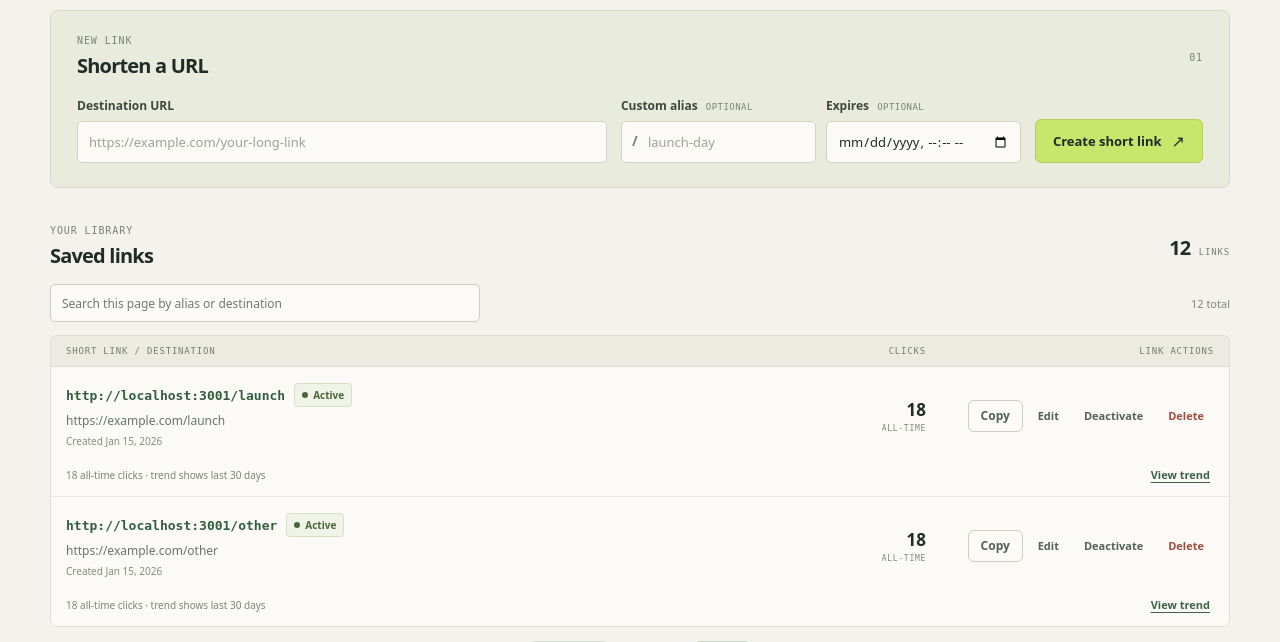
Test: LinkPulse analytics dashboard › paginates server results and searches within the current page
(page scrolled)
Expected: the link "http://localhost:3001/launch" is shown, x1=66 y1=388 x2=285 y2=403
In the search field named "search links on this page": {"x": 265, "y": 304} x1=50 y1=284 x2=480 y2=322, type "launch"
(page scrolled)
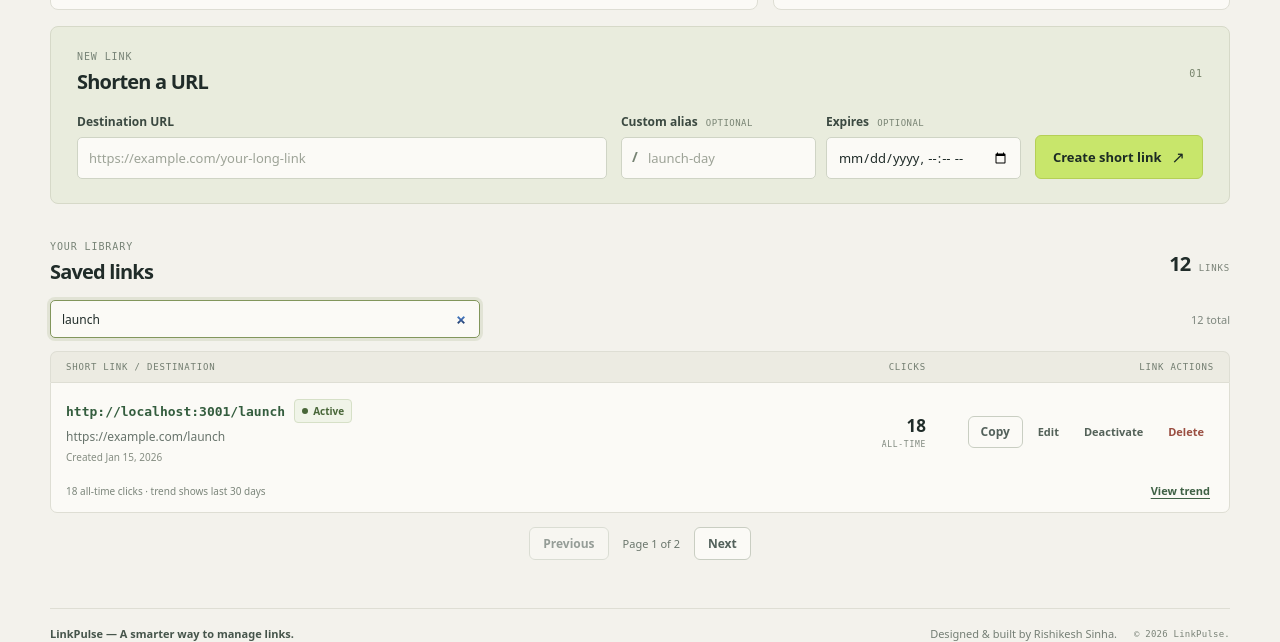
Expected: the link "http://localhost:3001/launch" is shown, x1=66 y1=404 x2=285 y2=419
Now the link "http://localhost:3001/other" is gone
Clear the search field: {"x": 265, "y": 320} x1=50 y1=300 x2=480 y2=338
(page scrolled)
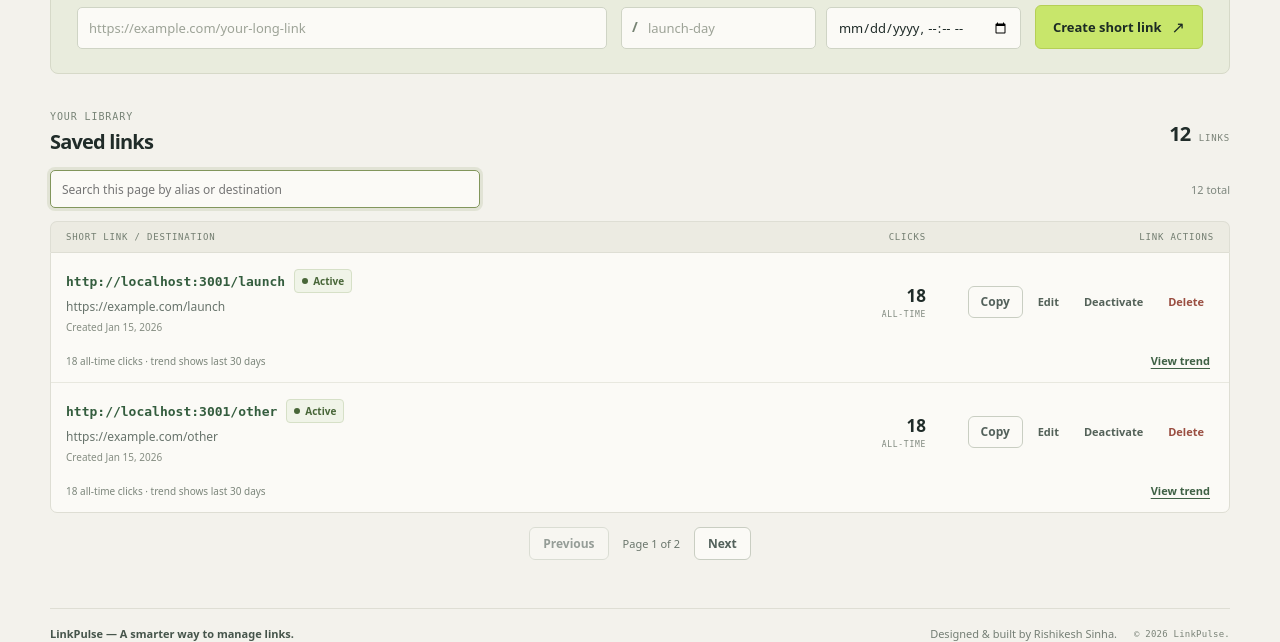
Click the button "Next": {"x": 722, "y": 544} x1=694 y1=528 x2=751 y2=560
(page scrolled)
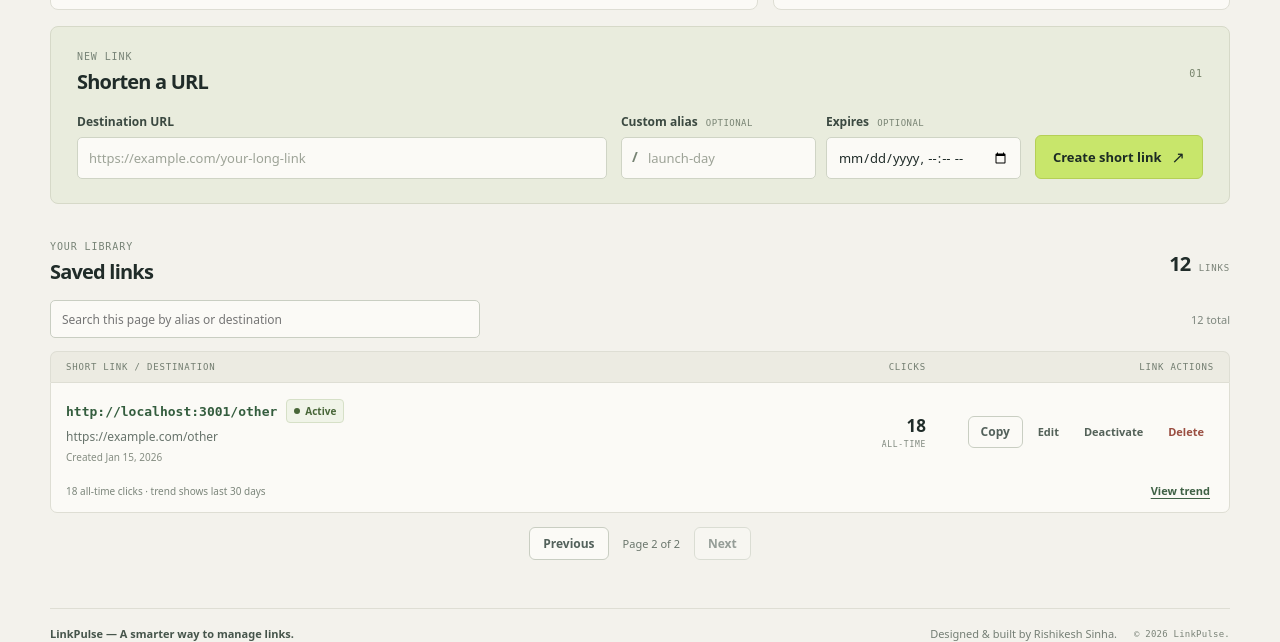
Now the text "Page 2 of 2" is shown, box x1=623 y1=536 x2=680 y2=552
